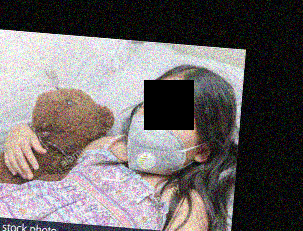with_mask: (125, 92, 201, 174)
